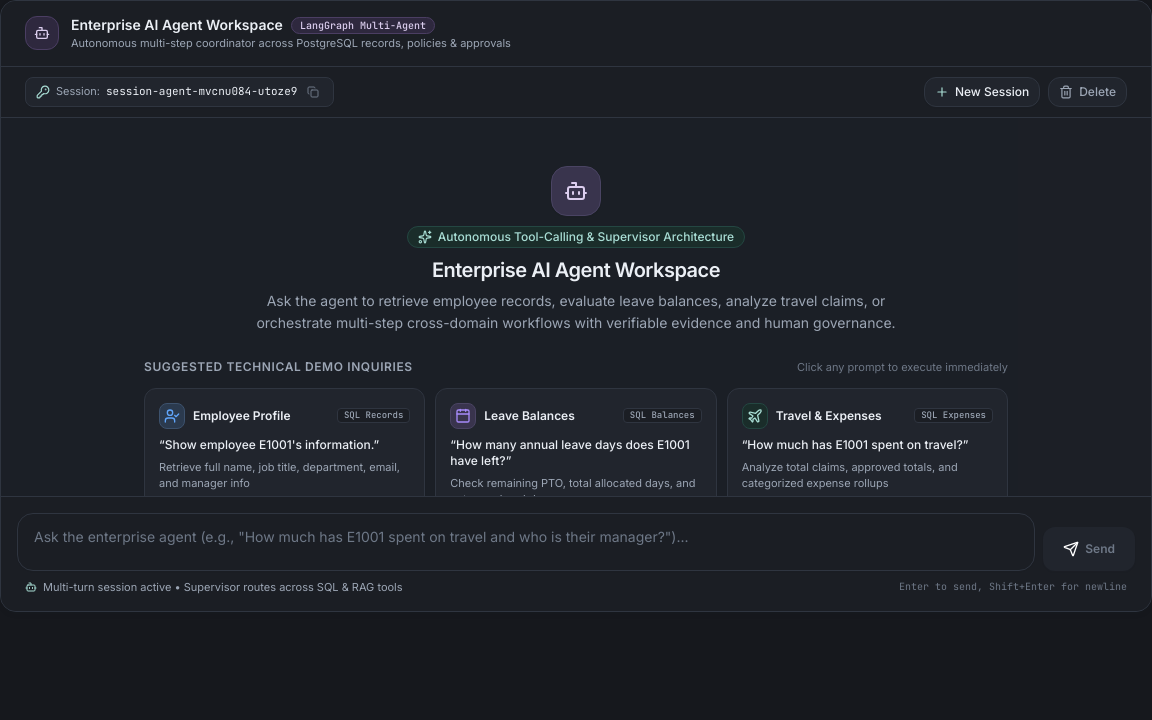
Test: AgentChatWorkspace › deletes session on backend and resets session ID
The image size is (1152, 720).
Click the button "Delete": (1088, 92) [1048,76,1127,106]
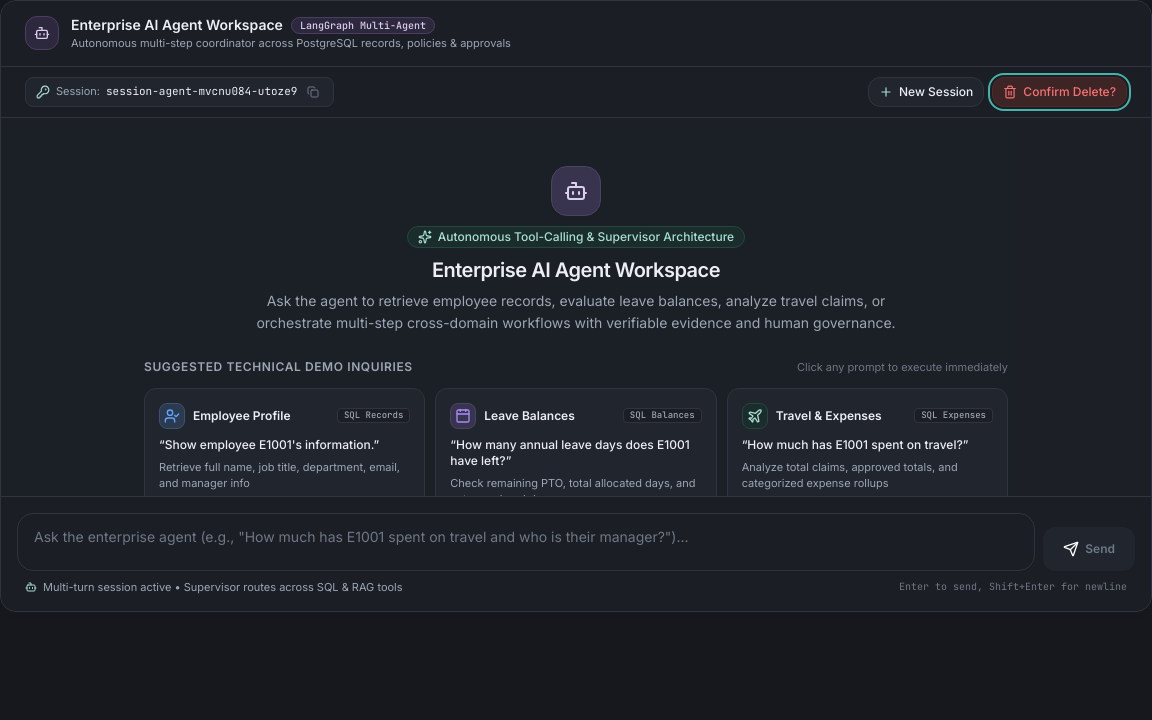
Click the button "Confirm Delete?": (1060, 92) [992,76,1127,106]
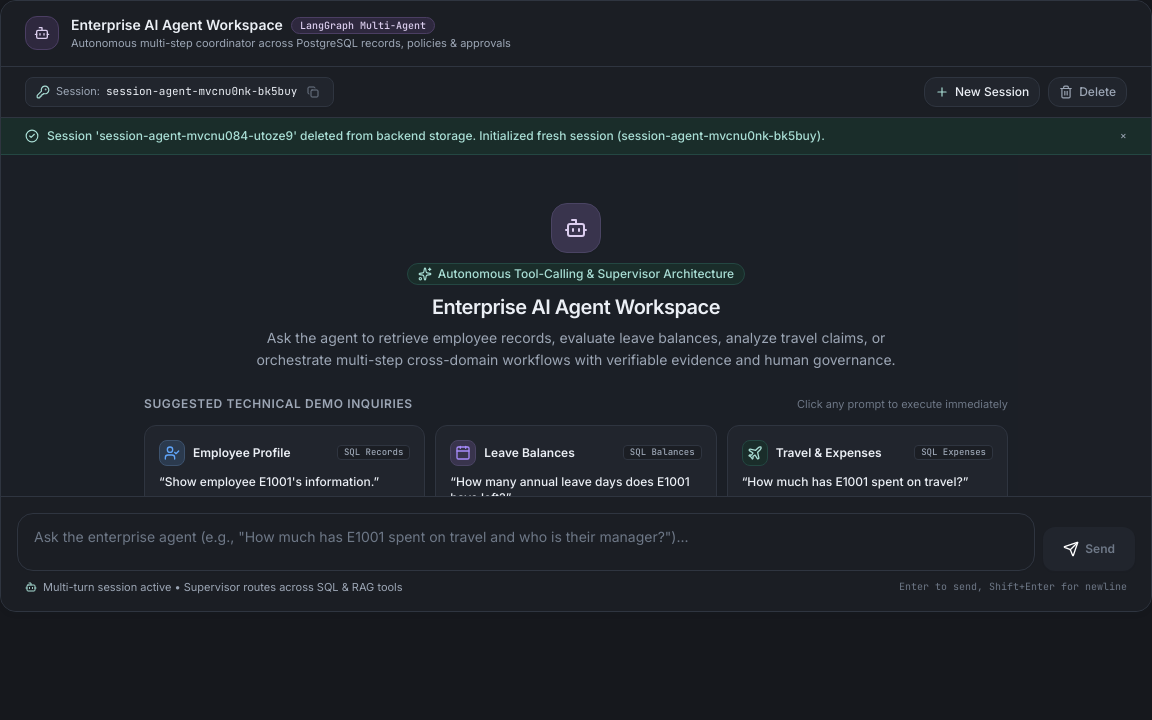
Expected: the text "deleted from backend storage" is shown, [47,128,825,142]
